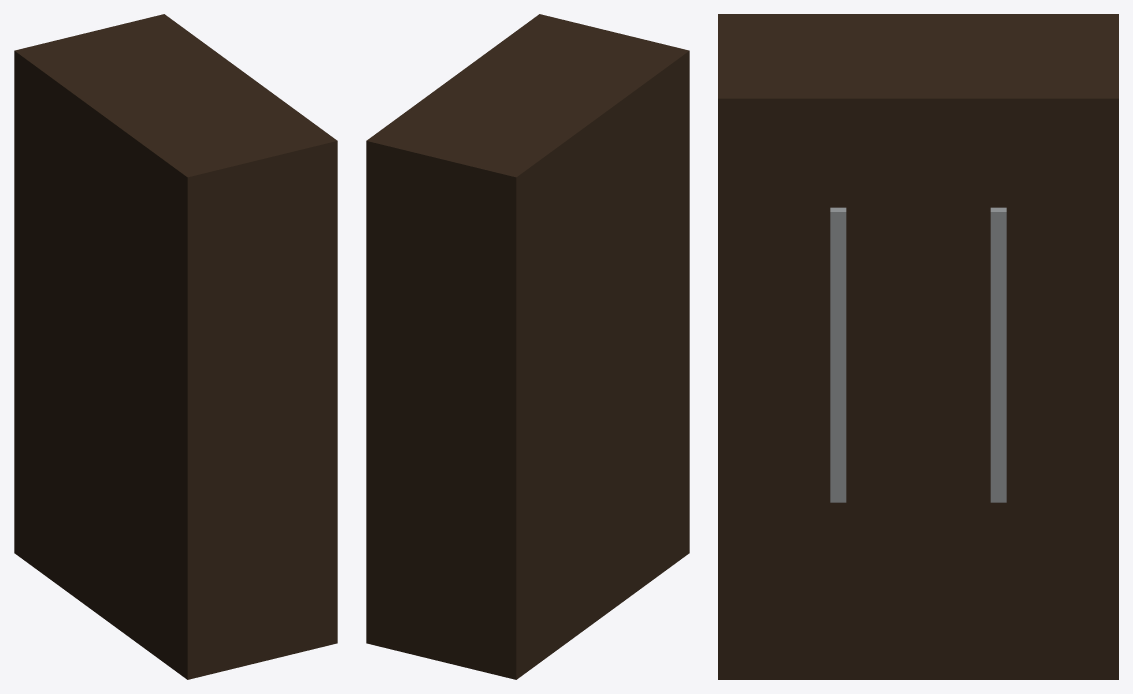
Rendered from PRP_Cabinet_A.glb.
3 renders of one model, left to right at view 1: azimuth 30°, elevation 25°; view 2: azimuth 150°, elevation 25°; view 3: azimuth 270°, elevation 25°, orthographic. The views are drawn at different scales.
Parts seen in each view (by area): view 1: PRP_Cabinet_A_Body; view 2: PRP_Cabinet_A_Body; view 3: PRP_Cabinet_A_Body, PRP_Cabinet_A_HandleL, PRP_Cabinet_A_HandleR.
Boxes of the visible parts, bbox=[...] form: PRP_Cabinet_A_Body: bbox=[14, 14, 337, 679]; PRP_Cabinet_A_Body: bbox=[366, 14, 689, 679]; PRP_Cabinet_A_Body: bbox=[718, 14, 1118, 679]; PRP_Cabinet_A_HandleL: bbox=[990, 207, 1006, 502]; PRP_Cabinet_A_HandleR: bbox=[830, 207, 846, 502].
Bounding box in the file's own units: 0.525 × 1.6 × 1.
